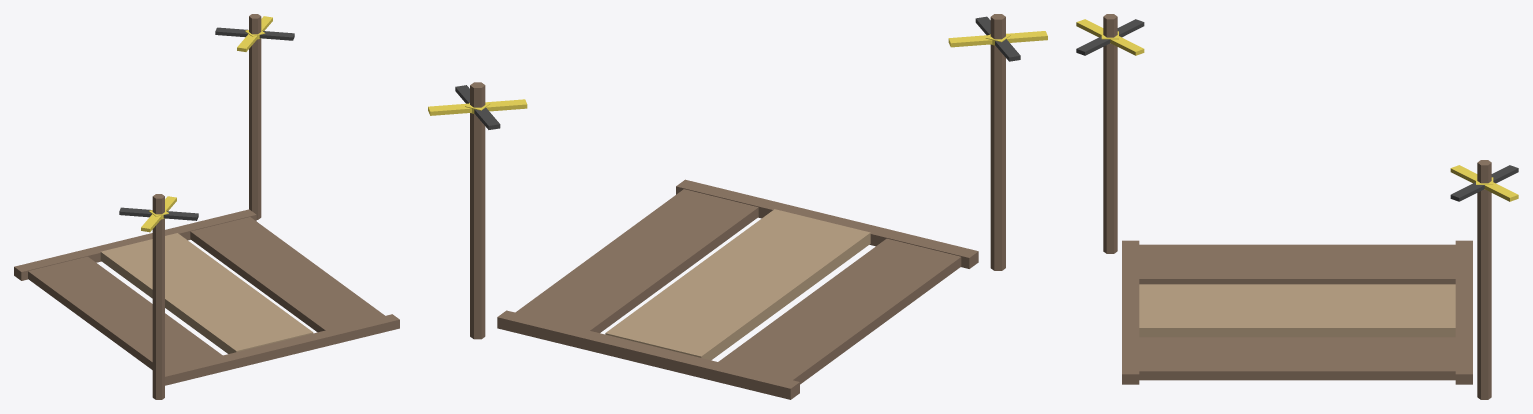
The model's file is crossing_wood.glb.
The picture shows the model from 3 angles, left to right: view 1: azimuth 30°, elevation 25°; view 2: azimuth 150°, elevation 25°; view 3: azimuth 270°, elevation 25°; orthographic projection. The views are drawn at different scales.
Visible parts, largest first — view 1: Center_Decking, Outer_Plank_Right, Outer_Plank_Left, Edge_Timber_S, Post_Pole_1, Post_Pole_0, Edge_Timber_N, Crossbuck_B_0, Crossbuck_B_1, Crossbuck_A_0, Crossbuck_A_1; view 2: Center_Decking, Outer_Plank_Left, Outer_Plank_Right, Edge_Timber_N, Post_Pole_1, Post_Pole_0, Edge_Timber_S, Crossbuck_A_1, Crossbuck_A_0, Crossbuck_B_1; view 3: Center_Decking, Outer_Plank_Right, Outer_Plank_Left, Post_Pole_1, Post_Pole_0, Edge_Timber_N, Edge_Timber_S, Crossbuck_B_0, Crossbuck_A_1, Crossbuck_B_1, Crossbuck_A_0.
Part boxes in pixels (x1,y1,x2,y2): Center_Decking: (100, 233, 313, 353); Outer_Plank_Right: (190, 217, 384, 332); Outer_Plank_Left: (28, 256, 222, 369); Edge_Timber_S: (165, 314, 399, 385); Post_Pole_1: (152, 194, 164, 399); Post_Pole_0: (249, 14, 261, 219); Edge_Timber_N: (14, 209, 256, 280); Crossbuck_B_0: (215, 27, 294, 40); Crossbuck_B_1: (119, 207, 198, 220); Crossbuck_A_0: (237, 16, 272, 51); Crossbuck_A_1: (141, 196, 176, 232); Center_Decking: (605, 209, 870, 360); Outer_Plank_Left: (718, 238, 961, 384); Outer_Plank_Right: (515, 189, 758, 332); Edge_Timber_N: (497, 310, 799, 399); Post_Pole_1: (990, 14, 1005, 270); Post_Pole_0: (470, 82, 485, 339); Edge_Timber_S: (676, 179, 978, 268); Crossbuck_A_1: (948, 31, 1047, 47); Crossbuck_A_0: (428, 99, 527, 115); Crossbuck_B_1: (975, 16, 1020, 61); Center_Decking: (1139, 284, 1455, 337); Outer_Plank_Right: (1139, 337, 1455, 380); Outer_Plank_Left: (1139, 244, 1455, 284); Post_Pole_1: (1103, 14, 1117, 253); Post_Pole_0: (1477, 160, 1491, 399); Edge_Timber_N: (1455, 240, 1472, 384); Edge_Timber_S: (1122, 240, 1139, 384); Crossbuck_B_0: (1450, 165, 1518, 201); Crossbuck_A_1: (1076, 19, 1144, 55); Crossbuck_B_1: (1076, 19, 1144, 55); Crossbuck_A_0: (1450, 165, 1518, 201).
Bounding box in the file's own units: 1.47 × 0.9 × 1.54.
